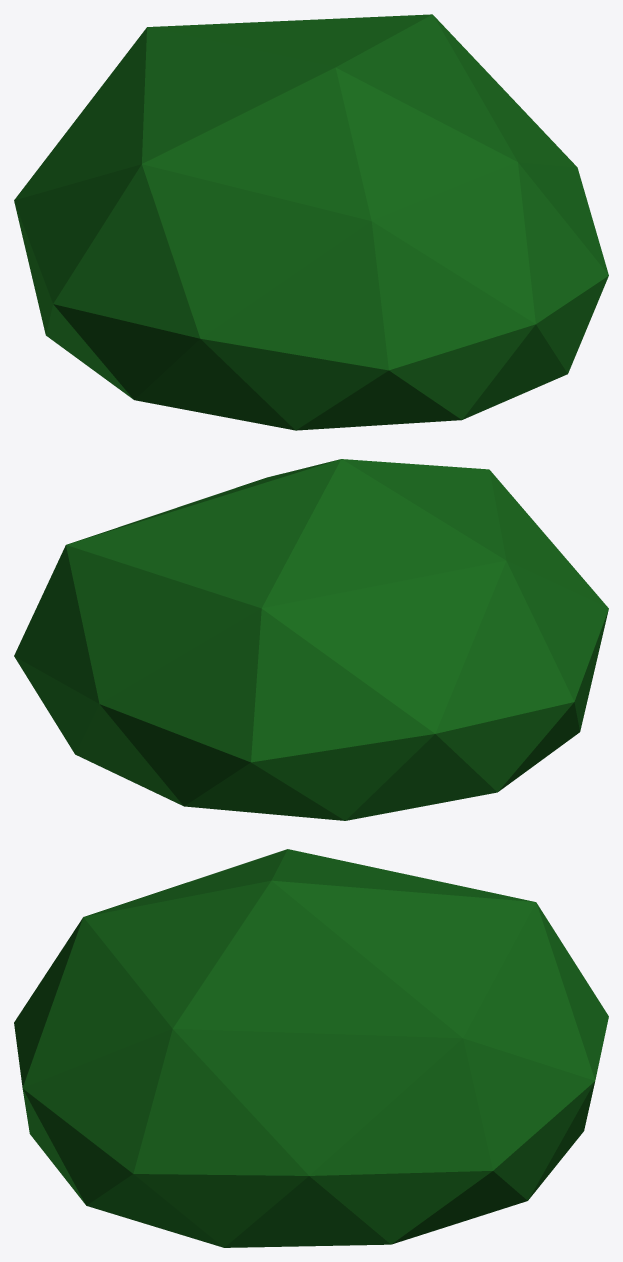
The model's file is berry1.1.fbx.
3 views of the same model, one above another, from view 1: azimuth 30°, elevation 25°; view 2: azimuth 150°, elevation 25°; view 3: azimuth 270°, elevation 25° (orthographic). The views are drawn at different scales.
Parts seen in each view (by area): view 1: Berry1.1; view 2: Berry1.1; view 3: Berry1.1.
Part boxes in pixels (box(x1,y1,x2,y2)): Berry1.1: box(14, 14, 608, 430); Berry1.1: box(14, 459, 608, 820); Berry1.1: box(14, 849, 608, 1247).
Size of the model in its own units: 414 by 218 by 419.
